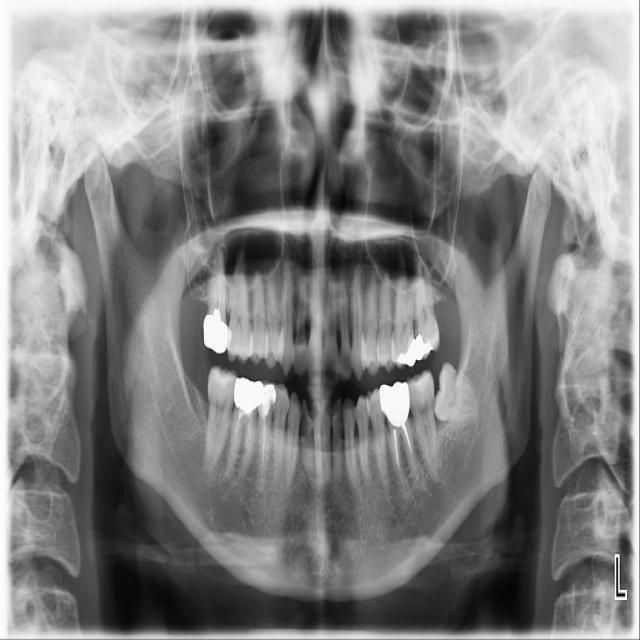52: (378, 380, 414, 430), (229, 375, 267, 421), (412, 304, 441, 362), (389, 322, 418, 372), (225, 318, 255, 364), (202, 307, 229, 355), (254, 380, 278, 424), (431, 306, 436, 316), (415, 321, 418, 329)
73: (384, 418, 422, 491), (224, 414, 258, 481), (207, 243, 227, 318), (258, 421, 272, 485), (542, 600, 546, 610)
BioHorizons Implant: (413, 249, 440, 362)
Biomet 3i Implant: (431, 359, 485, 426)
Blue Sky Bio Implant: (405, 368, 442, 485)
Caries: (200, 241, 229, 356)
Implant: (194, 364, 240, 479)
